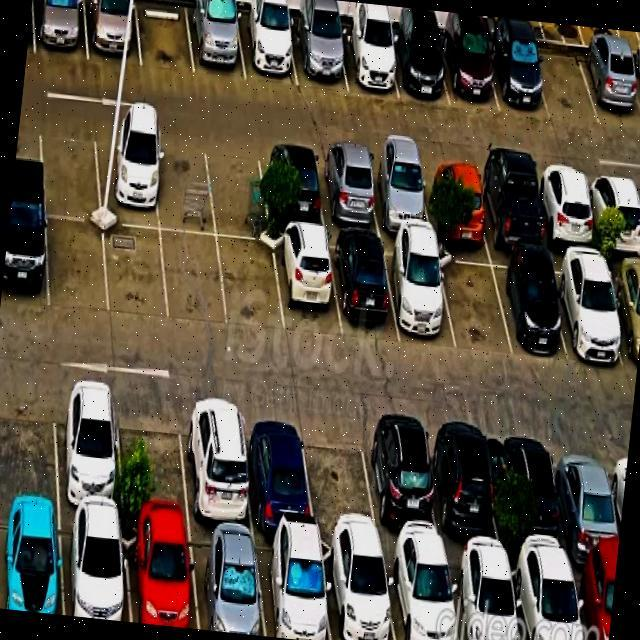Car: (172, 428, 252, 544), (360, 436, 436, 552), (48, 416, 126, 528), (244, 438, 312, 556), (492, 441, 560, 556), (560, 260, 628, 372), (426, 442, 494, 553), (552, 456, 621, 564), (121, 532, 198, 628), (193, 540, 268, 635), (388, 244, 456, 348), (502, 256, 567, 362), (92, 123, 162, 221), (260, 545, 332, 640), (425, 149, 488, 254), (270, 233, 338, 329), (334, 234, 396, 339), (59, 530, 130, 621), (482, 162, 544, 266), (255, 142, 324, 234), (326, 556, 401, 640), (535, 170, 595, 272), (0, 522, 65, 613), (391, 559, 463, 640), (389, 7, 449, 102), (587, 172, 640, 275), (368, 152, 427, 243), (341, 1, 397, 96), (442, 12, 498, 106), (516, 571, 592, 640), (581, 26, 639, 114), (458, 564, 525, 640), (492, 18, 546, 112), (318, 148, 376, 235), (186, 0, 246, 82), (292, 0, 348, 87), (239, 0, 296, 82), (0, 216, 50, 306), (83, 0, 139, 60), (32, 0, 85, 56)
Vacant: (115, 419, 188, 534), (300, 442, 378, 548), (0, 398, 62, 521), (440, 258, 511, 354), (154, 133, 216, 235), (42, 221, 110, 314), (100, 220, 166, 314), (210, 138, 272, 235), (34, 131, 101, 220), (214, 234, 278, 325), (534, 26, 594, 116), (160, 228, 222, 314), (133, 0, 195, 74)
